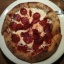pizza: (3, 3, 59, 58)
